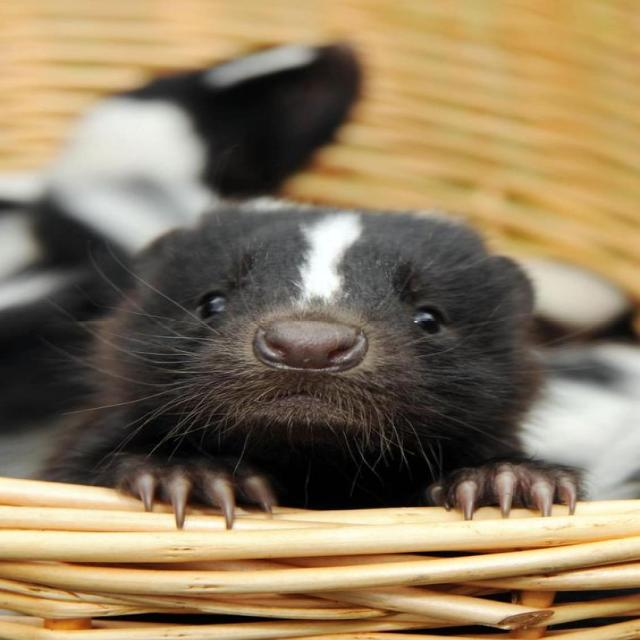Skunk: (39, 175, 634, 524)
